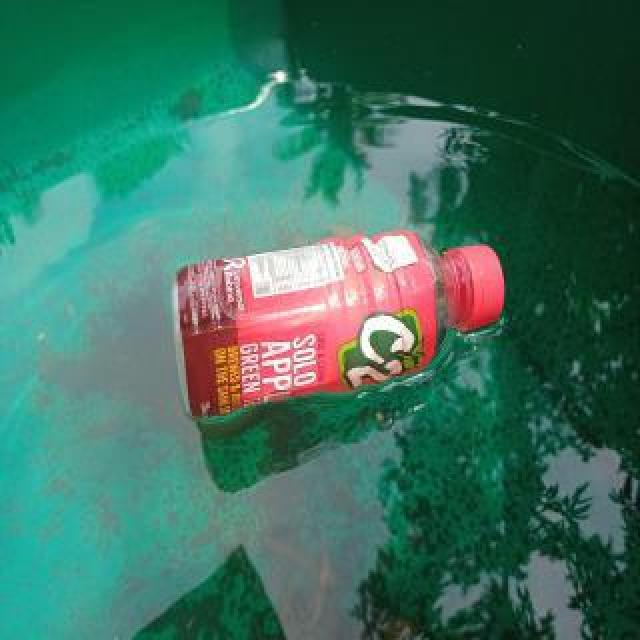bottle: (167, 223, 509, 425)
